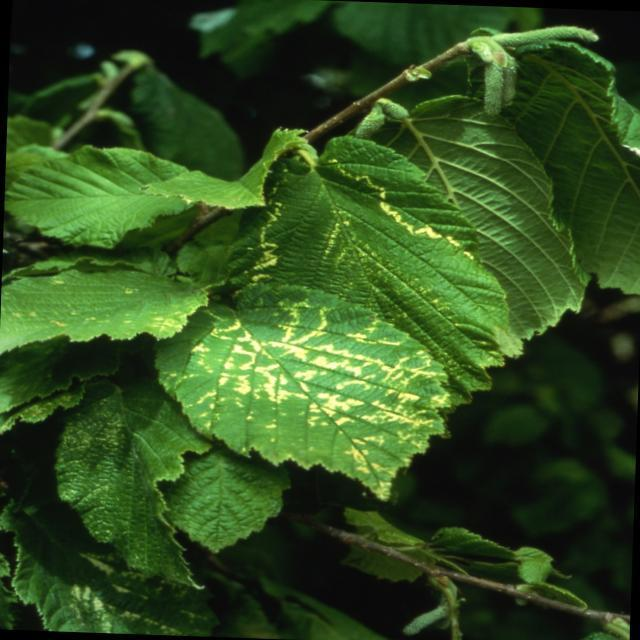Mosaic Virus: (195, 272, 424, 514)
